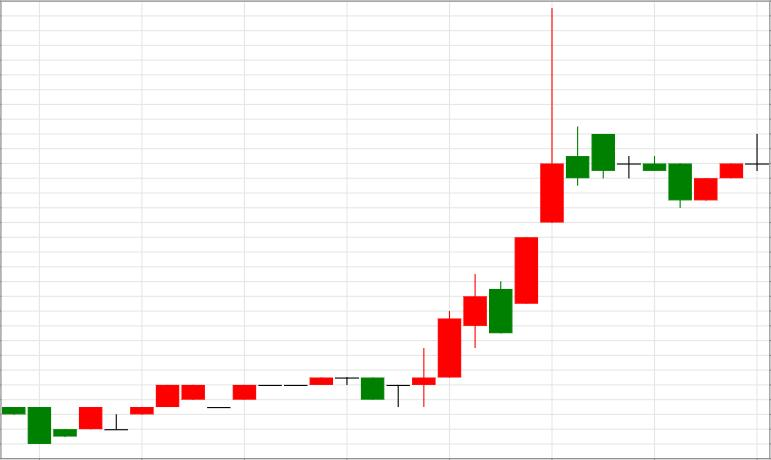shooting_star_fall: (413, 8, 564, 407)
